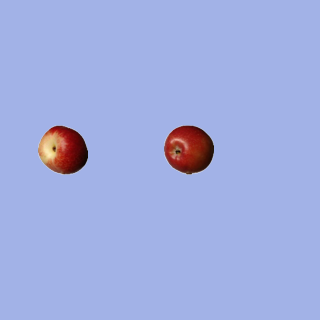Apple Braeburn: (163, 124, 213, 174)
Nectarine: (37, 124, 87, 174)
